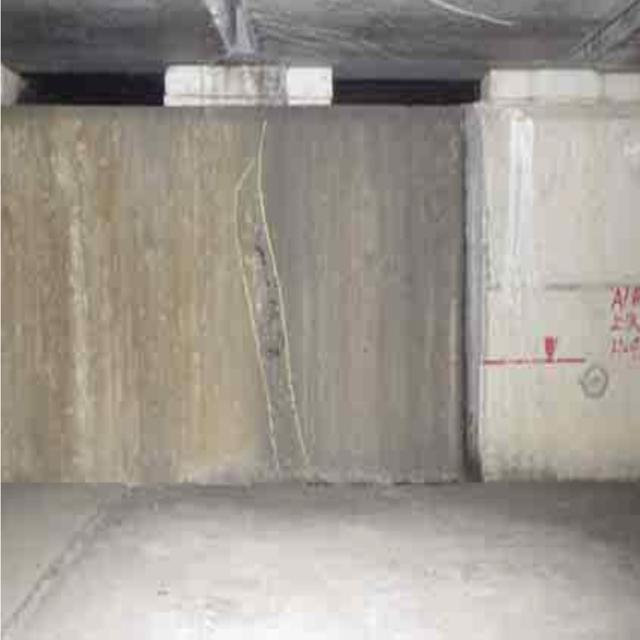spalling: (232, 198, 304, 492)
